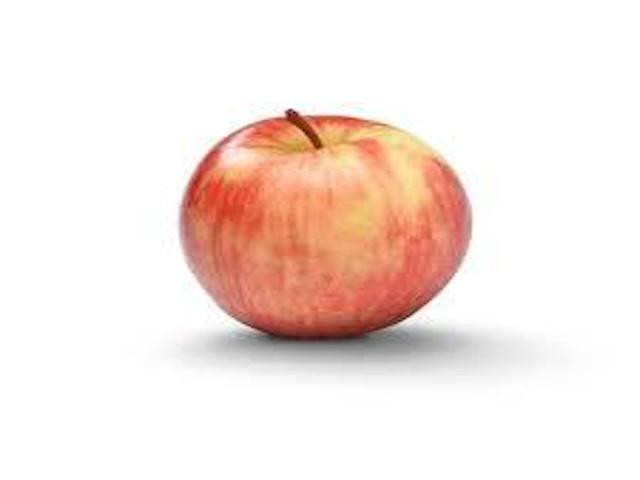apple: (172, 95, 481, 353)
